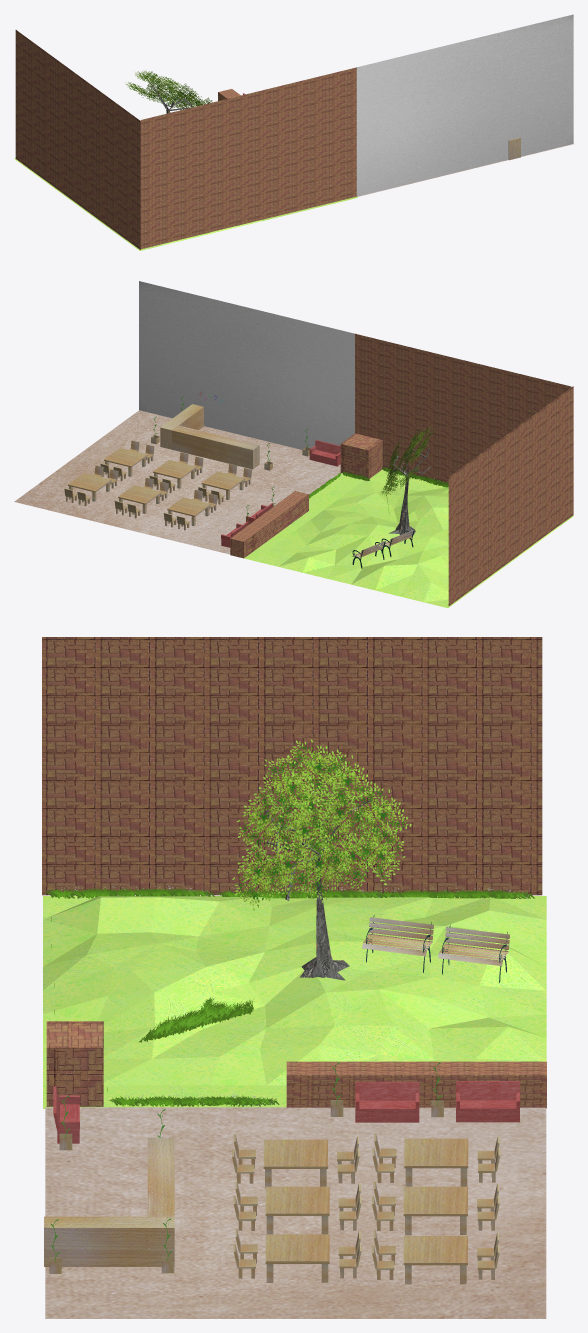
Rendered from netcare_room1.dae.
3 renders of one model, top to bottom at view 1: azimuth 30°, elevation 25°; view 2: azimuth 150°, elevation 25°; view 3: azimuth 270°, elevation 25°, orthographic. The views are drawn at different scales.
Visible parts, largest first — view 1: Wall1_001, Wall1, Wall1_002, Grid; view 2: Wall1, Wall1_001, Grid, Floor1, Wall1_002, StaffTable1, Cube_000, Cube_001, Tree1_001, Sofa1_003, Table1_006, Table1_003 (+4 smaller); view 3: Wall1_002, Grid, Floor1, Cube_000, StaffTable1, Cube_001, Sofa1_002, Sofa1_001, Table1_006, Table1_005, Table1_003, Table1_002 (+24 smaller).
Boxes of the visible parts, x1,y1,x2,y2 form: Wall1_001: (140, 67, 356, 249); Wall1: (356, 14, 573, 196); Wall1_002: (15, 30, 140, 249); Grid: (14, 158, 357, 250); Wall1: (139, 281, 355, 449); Wall1_001: (355, 333, 571, 483); Grid: (244, 469, 573, 607); Floor1: (14, 410, 341, 554); Wall1_002: (448, 386, 573, 606); StaffTable1: (160, 404, 259, 469); Cube_000: (230, 491, 308, 558); Cube_001: (340, 433, 382, 478); Tree1_001: (389, 448, 431, 537); Sofa1_003: (309, 440, 340, 466); Table1_006: (167, 497, 210, 525); Table1_003: (104, 448, 147, 476); Wall1_002: (42, 637, 542, 895); Grid: (43, 896, 546, 1108); Floor1: (45, 1107, 546, 1318); Cube_000: (286, 1061, 546, 1108); StaffTable1: (44, 1137, 174, 1266); Cube_001: (46, 1021, 103, 1106); Sofa1_002: (355, 1081, 419, 1122); Sofa1_001: (456, 1081, 520, 1122); Table1_006: (404, 1138, 468, 1186); Table1_005: (403, 1186, 467, 1235); Table1_003: (265, 1234, 329, 1282); Table1_002: (265, 1186, 329, 1234).
Bounding box in the file's own units: 31.31 × 15.8 × 9.13.
Materials: 18 (18 with a texture image).
